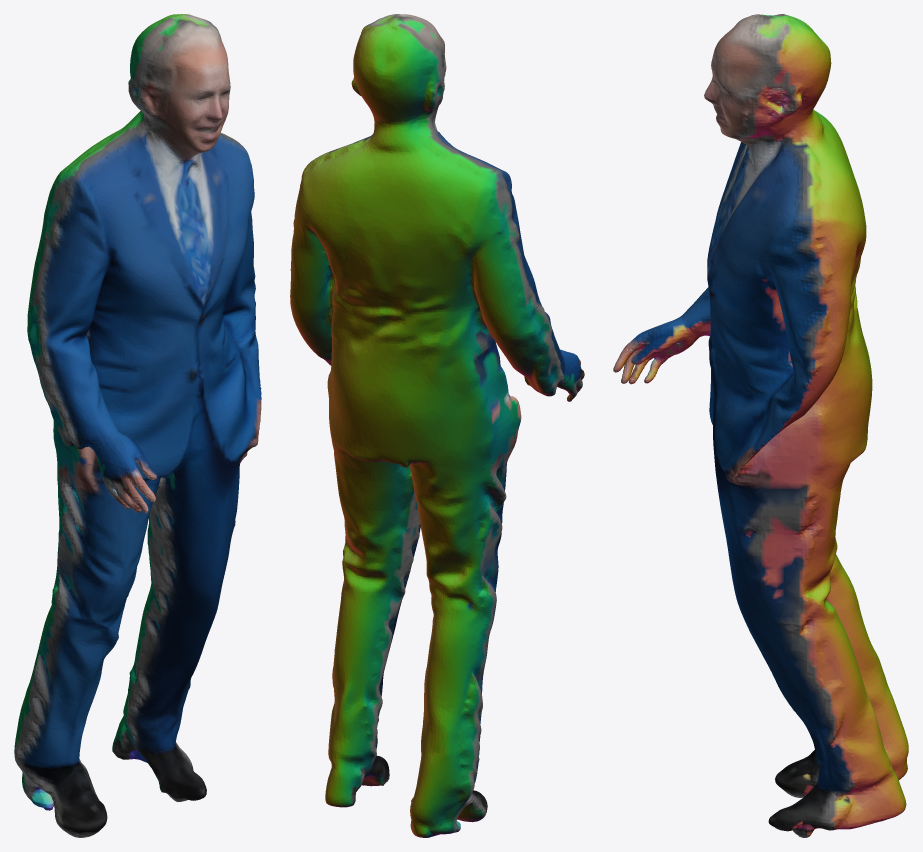
File: 0_a-DSLR-photo_sh_natural_0_full.obj
3 views of the same model, side by side, from view 1: azimuth 30°, elevation 25°; view 2: azimuth 150°, elevation 25°; view 3: azimuth 270°, elevation 25° (orthographic). The views are drawn at different scales.
Size of the model in its own units: 0.5829 by 1.85 by 0.6043.
